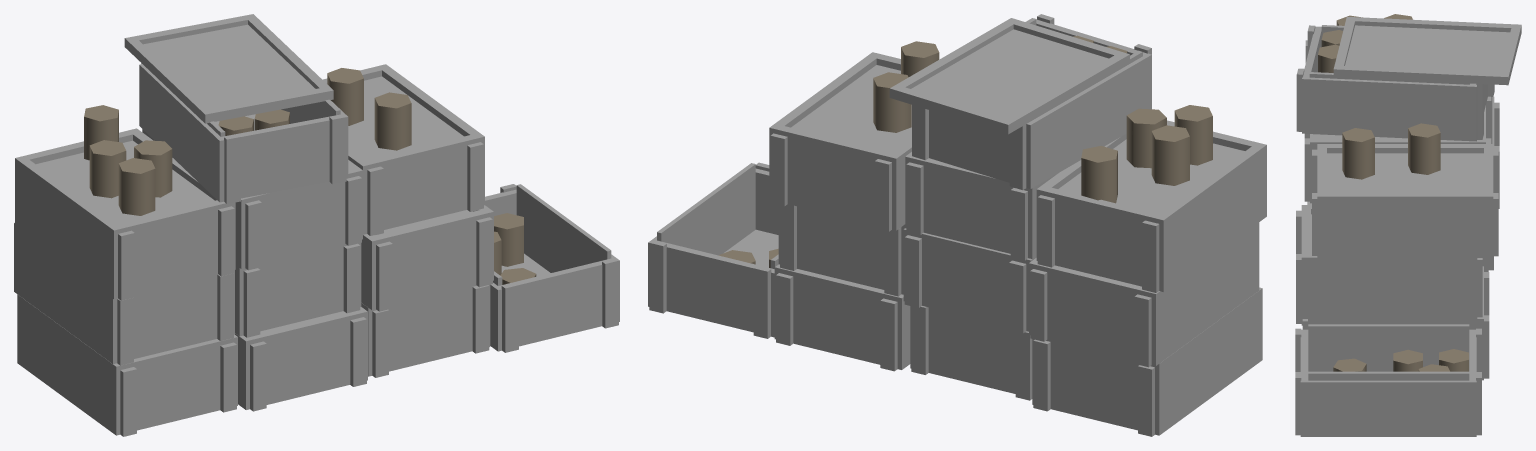
File: mesh_MilitaryFoodRations.fbx
The picture shows the model from 3 angles, left to right: view 1: azimuth 30°, elevation 25°; view 2: azimuth 150°, elevation 25°; view 3: azimuth 270°, elevation 25°; orthographic projection. The views are drawn at different scales.
Visible parts, largest first — view 1: mesh_CrateMilitaryRationStacked1; view 2: mesh_CrateMilitaryRationStacked1; view 3: mesh_CrateMilitaryRationStacked1.
Part boxes in pixels (left/top/right/bottom): mesh_CrateMilitaryRationStacked1: left=14, top=14, right=619, bottom=436; mesh_CrateMilitaryRationStacked1: left=648, top=14, right=1266, bottom=436; mesh_CrateMilitaryRationStacked1: left=1295, top=14, right=1521, bottom=436.
Bounding box in the file's own units: 125 × 67.84 × 55.31.
